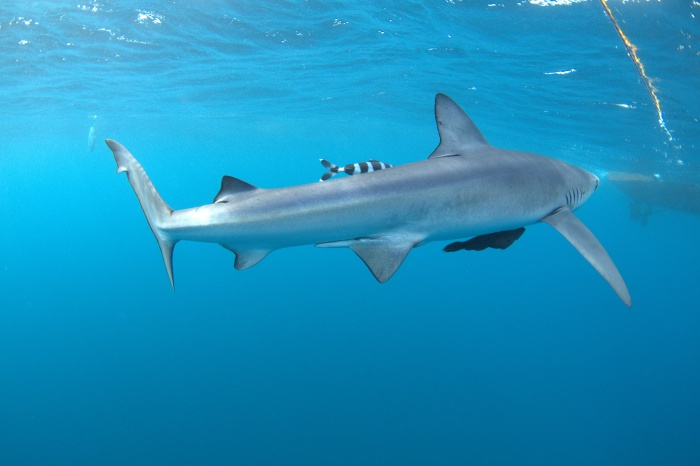Azul: (100, 92, 651, 319)
